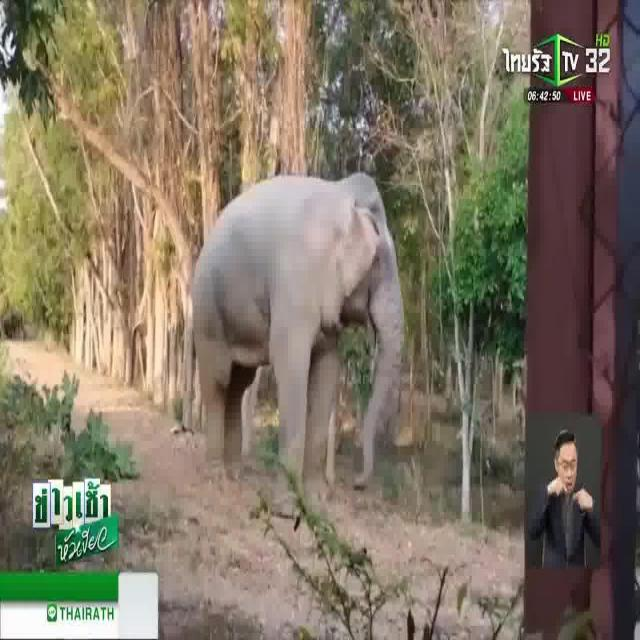Elephant: (195, 169, 398, 447)
